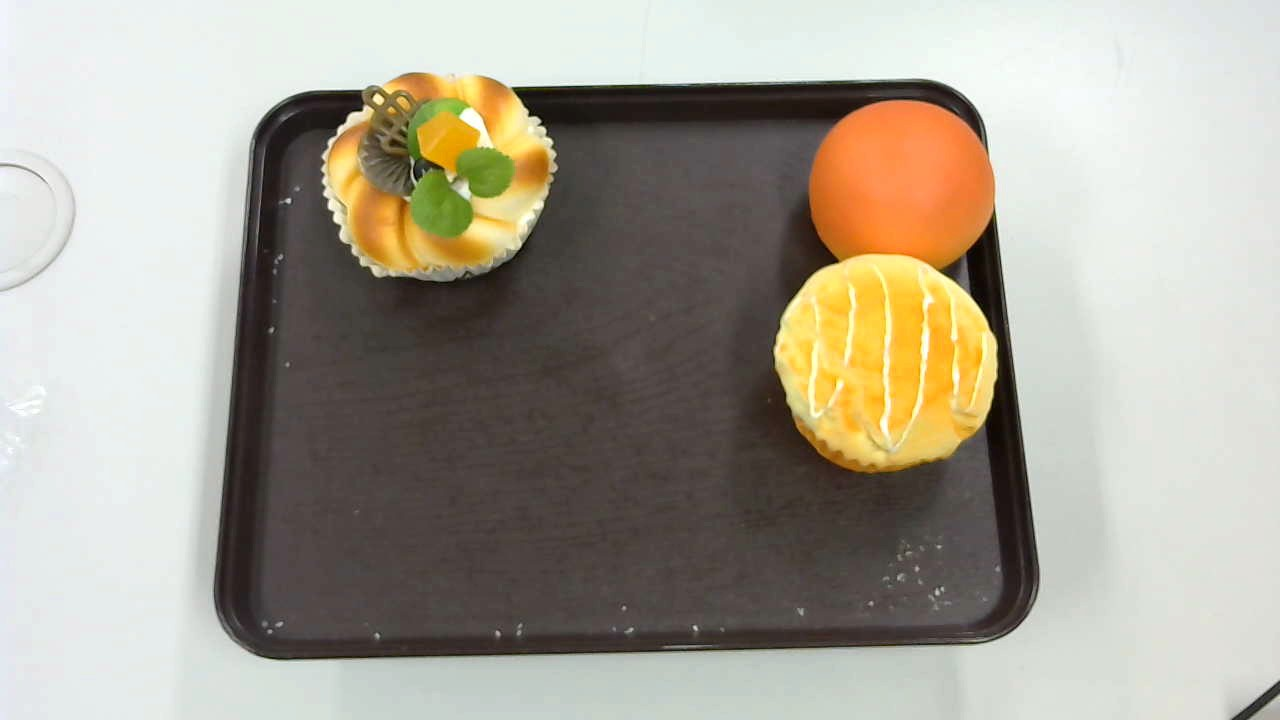bun: (807, 98, 996, 272)
cupcake: (773, 254, 998, 473)
fruit tart: (320, 72, 559, 281)
